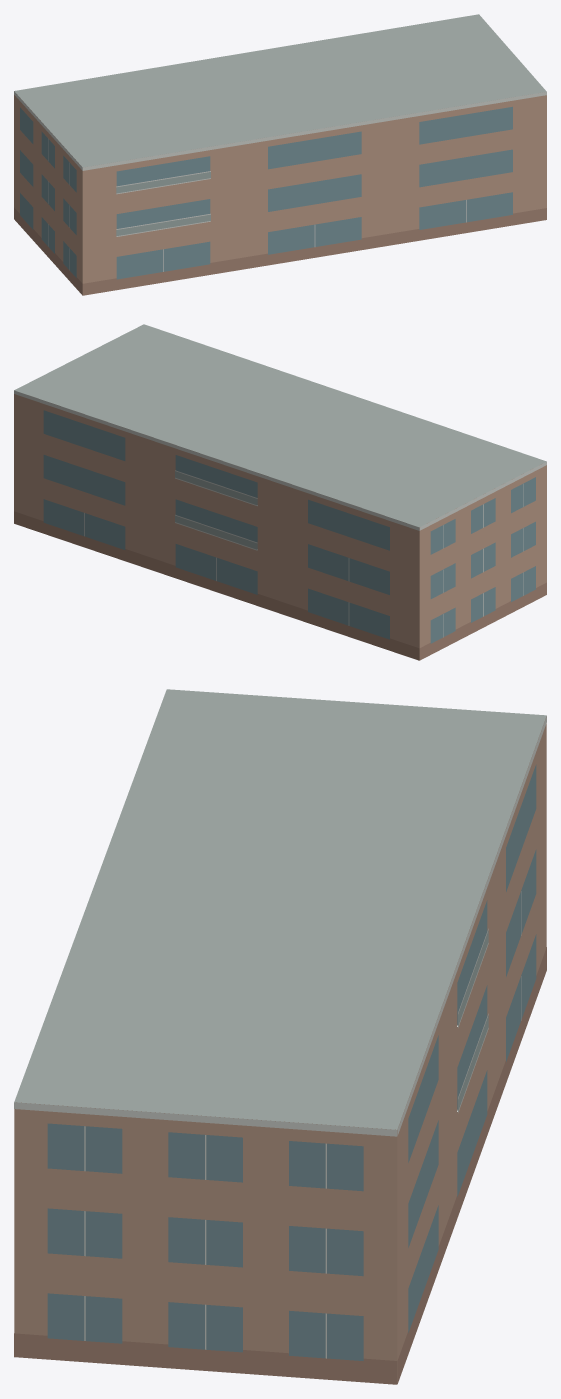
Rendered from survey-upis-32678794.glb.
3 renders of one model, top to bottom at view 1: azimuth 30°, elevation 25°; view 2: azimuth 150°, elevation 25°; view 3: azimuth 270°, elevation 25°, orthographic. The views are drawn at different scales.
Parts seen in each view (by area): view 1: survey-upis-32678794.tmp; view 2: survey-upis-32678794.tmp; view 3: survey-upis-32678794.tmp.
Part boxes in pixels (x1,y1,x2,y2): survey-upis-32678794.tmp: [14, 14, 546, 295]; survey-upis-32678794.tmp: [14, 324, 546, 660]; survey-upis-32678794.tmp: [14, 689, 546, 1384].
Size of the model in its own units: 33.94 by 9.15 by 17.34.
